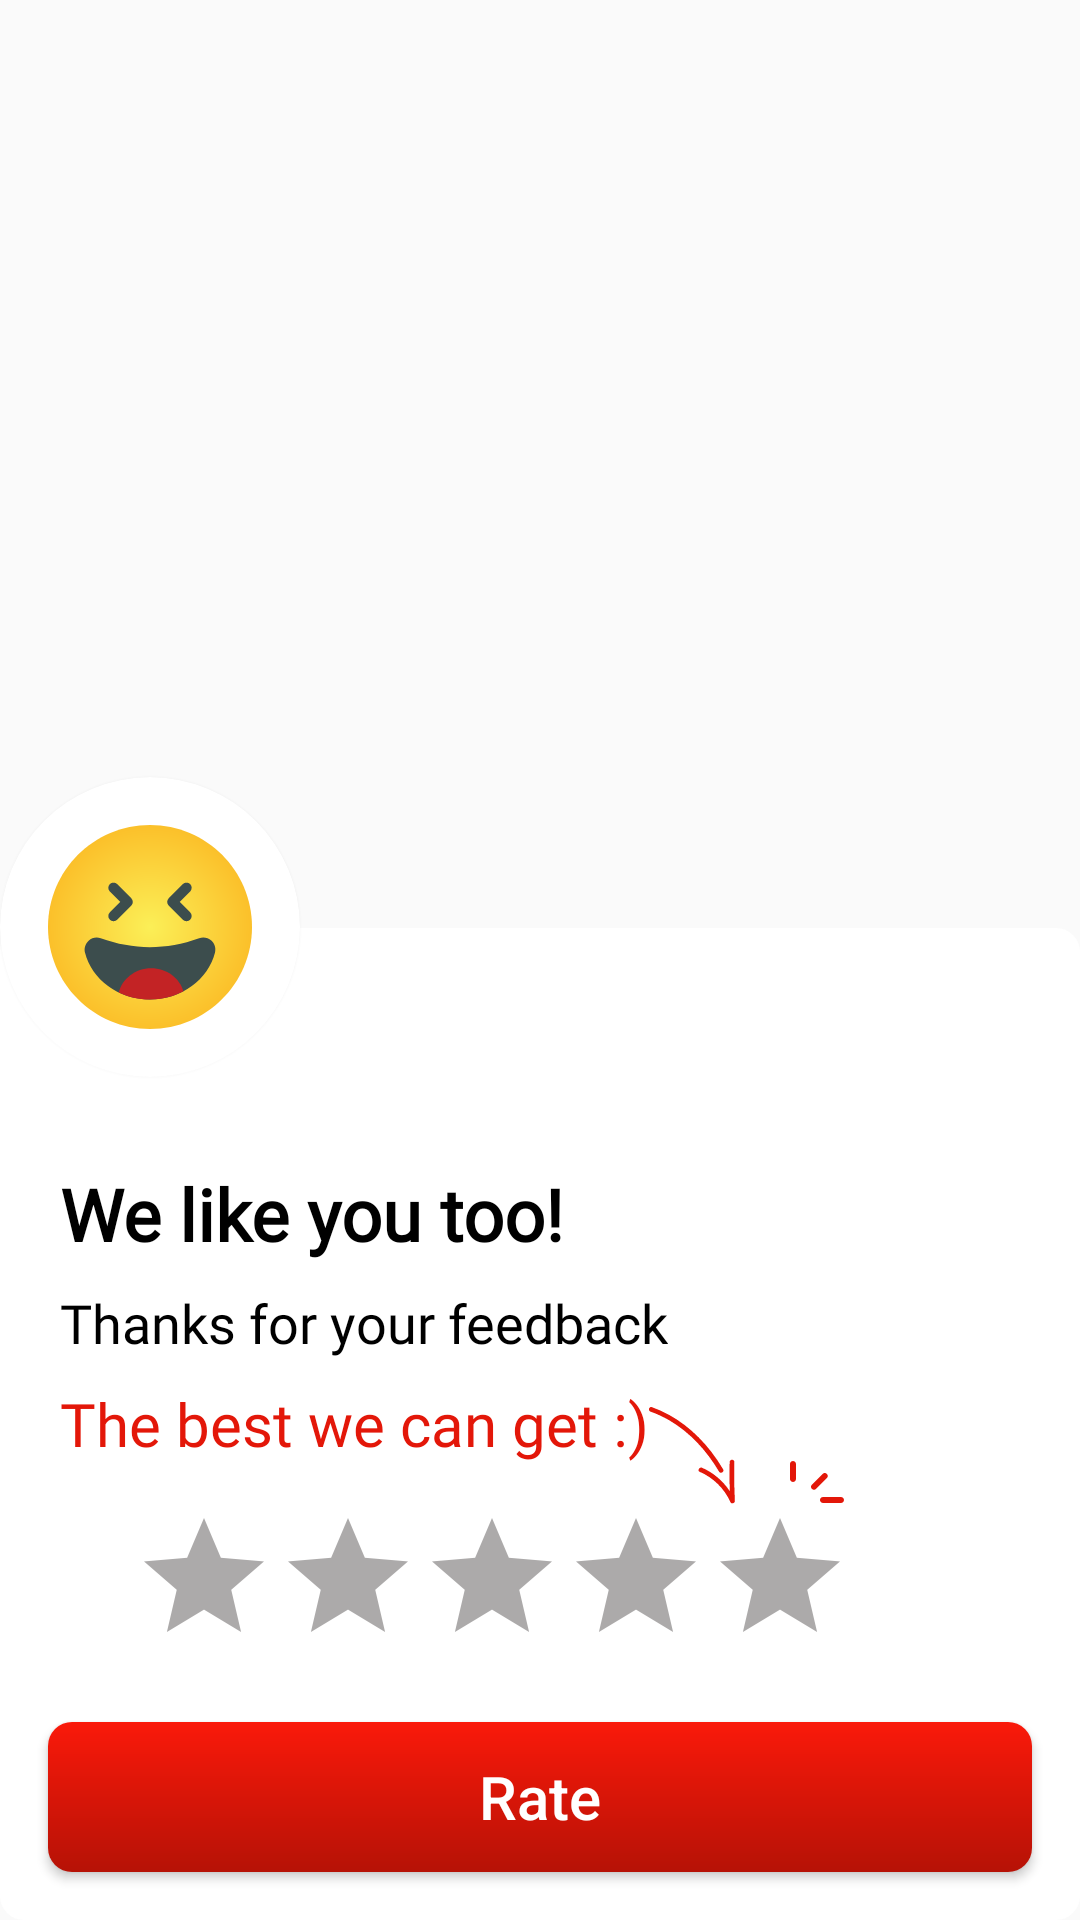

Named icons in this screenshot (1080 × 1920) and their centers, (x,y):
arrow rateus: (746,1455)
smilee: (150,927)
